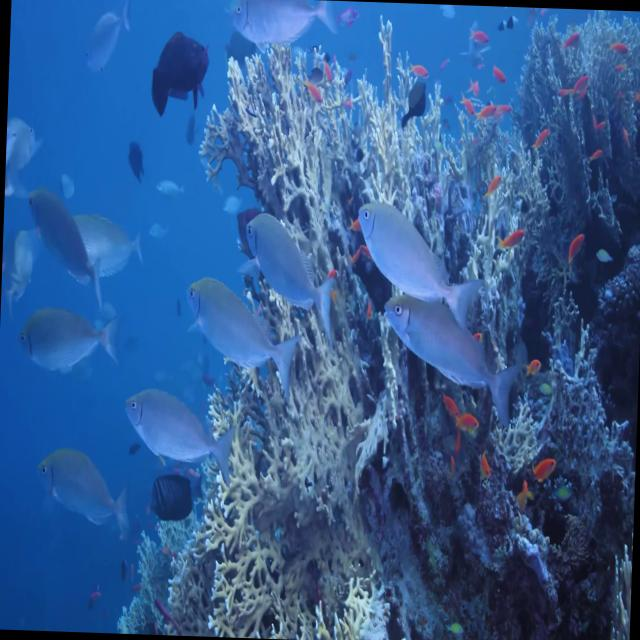fish: (379, 294, 513, 414), (353, 200, 479, 324), (184, 274, 295, 388), (122, 388, 235, 488), (241, 214, 336, 328), (34, 442, 130, 548), (22, 187, 104, 303), (15, 310, 118, 379), (57, 213, 142, 287), (224, 0, 334, 56), (148, 32, 209, 117), (146, 470, 198, 521)
